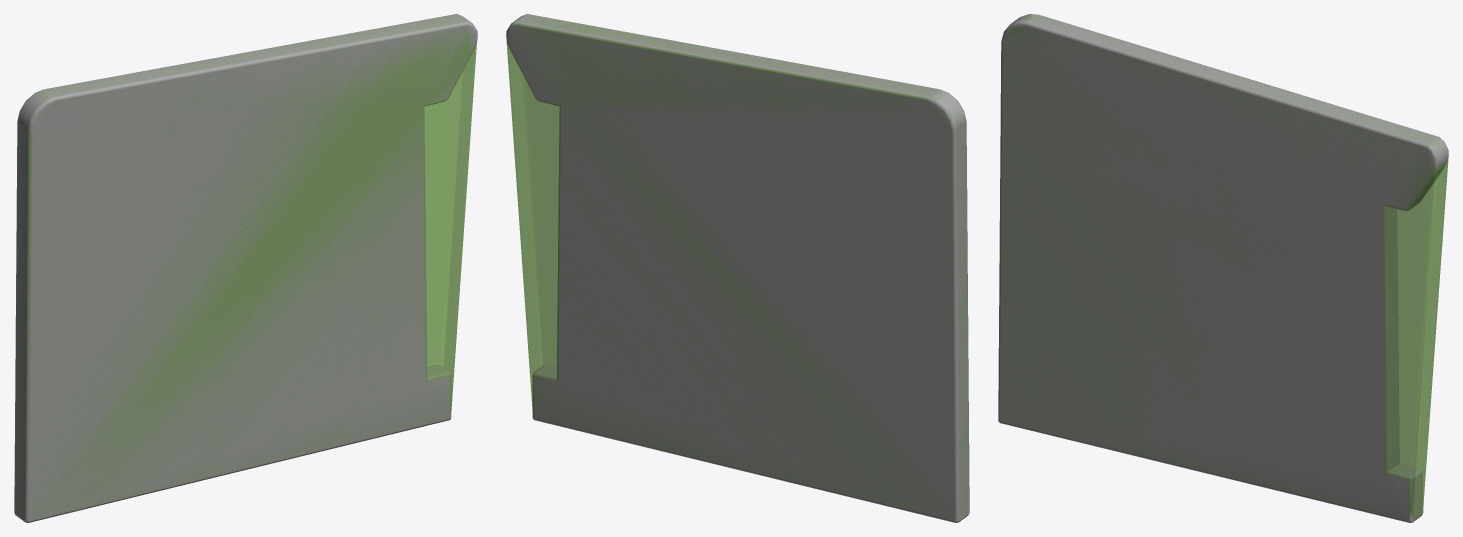
Rendered from M_md_Stall1_end_01.fbx.
3 views of the same model, side by side, from view 1: azimuth 30°, elevation 25°; view 2: azimuth 150°, elevation 25°; view 3: azimuth 330°, elevation 25° (orthographic). The views are drawn at different scales.
Parts seen in each view (by area): view 1: M_md_Stall1_end_01_LOD0, M_md_Stall1_end_01_col_01; view 2: M_md_Stall1_end_01_LOD0, M_md_Stall1_end_01_col_01; view 3: M_md_Stall1_end_01_LOD0, M_md_Stall1_end_01_col_01.
Boxes of the visible parts, bbox=[...] form: M_md_Stall1_end_01_LOD0: bbox=[14, 14, 477, 522]; M_md_Stall1_end_01_col_01: bbox=[15, 15, 476, 520]; M_md_Stall1_end_01_LOD0: bbox=[506, 14, 969, 522]; M_md_Stall1_end_01_col_01: bbox=[506, 15, 969, 520]; M_md_Stall1_end_01_LOD0: bbox=[998, 14, 1448, 522]; M_md_Stall1_end_01_col_01: bbox=[1000, 14, 1448, 522].
Size of what is drawn, in the model's own units: 118 by 105 by 6.
